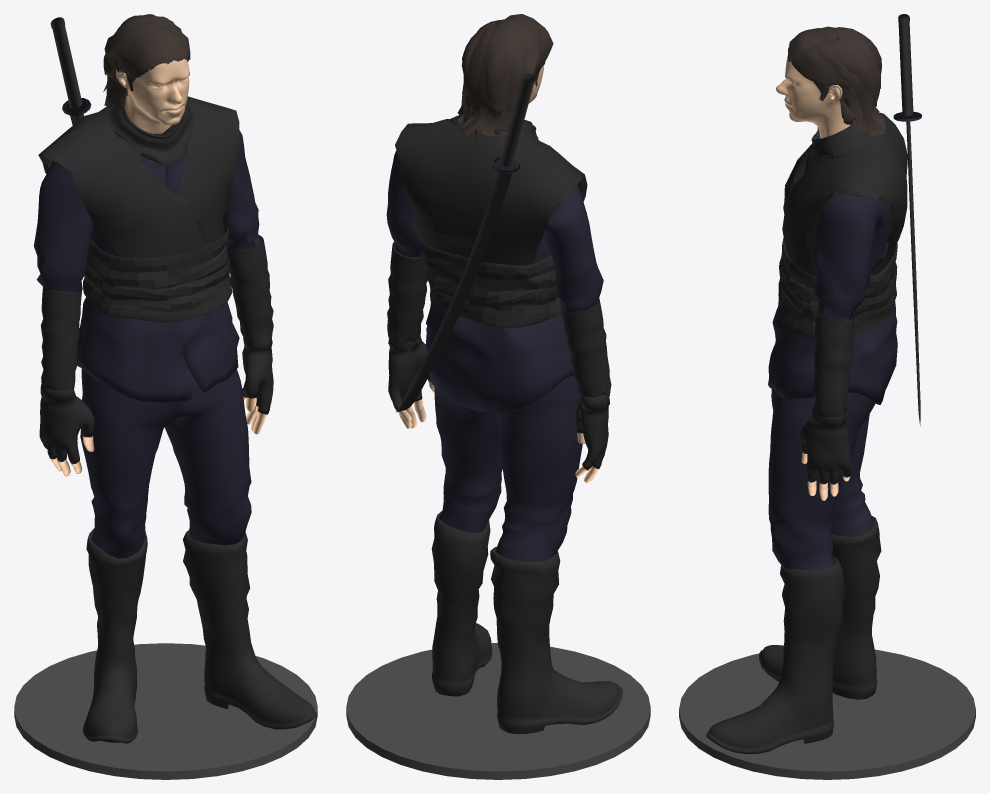
Rendered from model_orelsan.obj.
3 renders of one model, left to right at view 1: azimuth 30°, elevation 25°; view 2: azimuth 150°, elevation 25°; view 3: azimuth 270°, elevation 25°, orthographic. The views are drawn at different scales.
Visible parts, largest first — view 1: Cylinder, Tops.2, Bottoms, Shoes, Tops_dessus, ceinture, Gloves, Hair, Body, manche_gauche, manche_droite, Top_Scarf (+2 smaller); view 2: Cylinder, Shoes, Bottoms, Tops.2, Tops_dessus, Hair, ceinture, katana.1, Gloves, manche_gauche, manche_droite, fingers; view 3: Cylinder, Shoes, Tops.2, Bottoms, Tops_dessus, Hair, ceinture, manche_droite, Gloves, Body, katana.1, Top_Scarf.
Boxes of the visible parts, x1,y1,x2,y2 form: Cylinder: (14, 643, 317, 779); Tops.2: (34, 127, 261, 402); Bottoms: (80, 357, 251, 558); Shoes: (83, 528, 316, 743); Tops_dessus: (38, 96, 239, 258); ceinture: (83, 225, 232, 322); Gloves: (39, 333, 273, 464); Hair: (103, 14, 190, 109); Body: (116, 59, 189, 133); manche_gauche: (40, 286, 82, 390); manche_droite: (227, 235, 273, 342); Top_Scarf: (104, 95, 194, 165); Cylinder: (346, 643, 650, 779); Shoes: (431, 510, 622, 733); Bottoms: (434, 375, 582, 561); Tops.2: (386, 150, 603, 413); Tops_dessus: (395, 119, 587, 265); Hair: (457, 14, 553, 140); ceinture: (421, 242, 561, 328); katana.1: (396, 72, 535, 412); Gloves: (388, 336, 609, 470); manche_gauche: (561, 298, 611, 397); manche_droite: (387, 241, 427, 344); fingers: (398, 381, 598, 483); Cylinder: (679, 649, 975, 779); Shoes: (706, 516, 881, 753); Tops.2: (768, 169, 897, 404); Bottoms: (768, 389, 875, 569); Tops_dessus: (782, 112, 907, 275); Hair: (788, 26, 887, 136); ceinture: (778, 238, 897, 336); manche_droite: (813, 313, 854, 417); Gloves: (800, 405, 851, 484); Body: (776, 55, 850, 138); katana.1: (893, 14, 921, 425); Top_Scarf: (805, 125, 869, 169).
Bounding box in the file's own units: 71.5 × 188 × 71.5.
